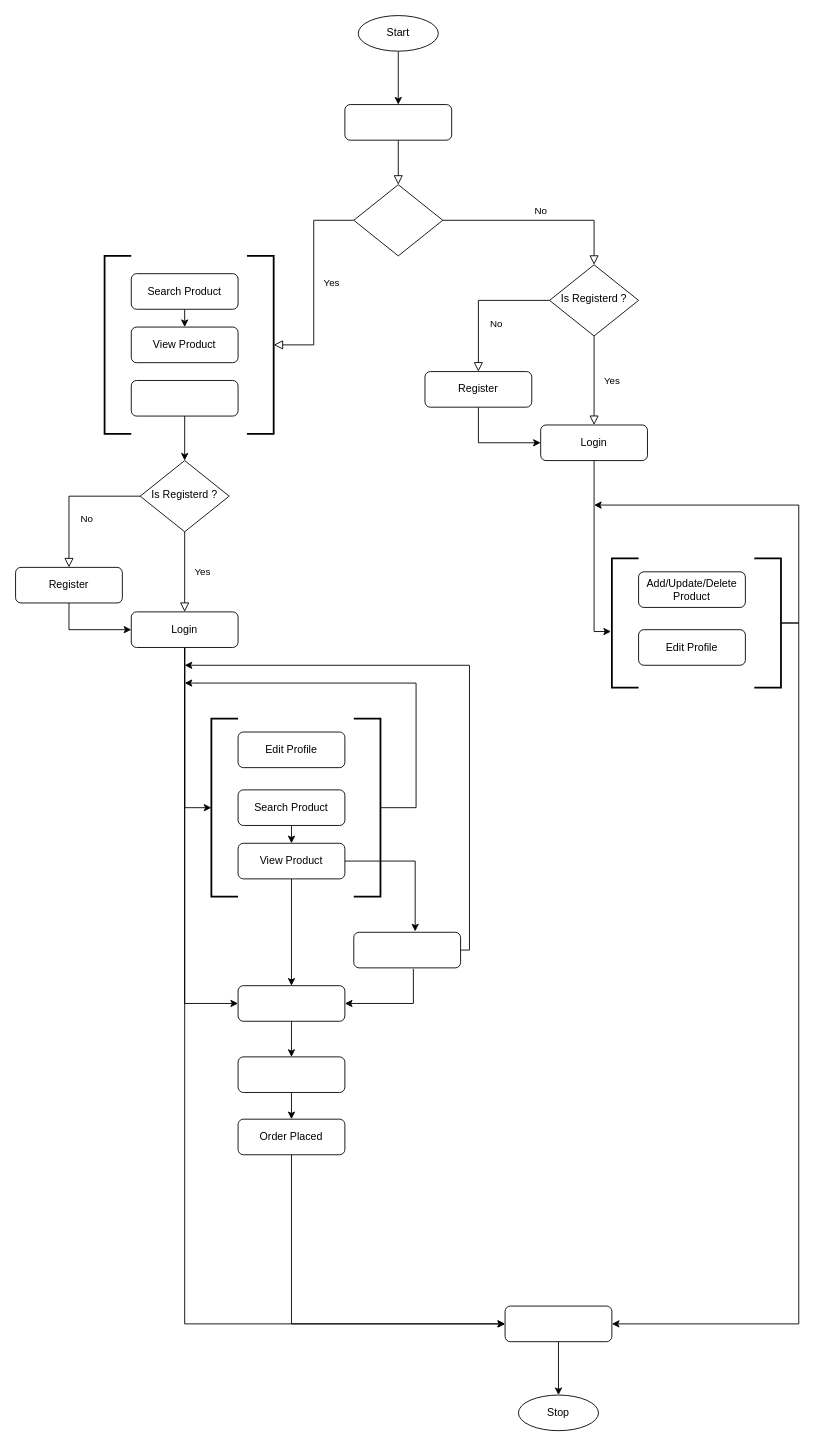
The diagram is 821 pixels wide and 1446 high, and some of its shapes have lost their labels. The shapes that lost their labels are listed below. From the top down, each one's box as (x1, y1, x2, y2) in pixels, then its label:
(344, 104, 452, 140): User
(353, 184, 443, 256): Is Buyer ?
(130, 380, 238, 416): Access Other Features
(353, 931, 461, 968): Add To Cart
(237, 985, 345, 1021): Buy Product
(237, 1056, 345, 1092): Payment
(504, 1305, 612, 1342): Log out
